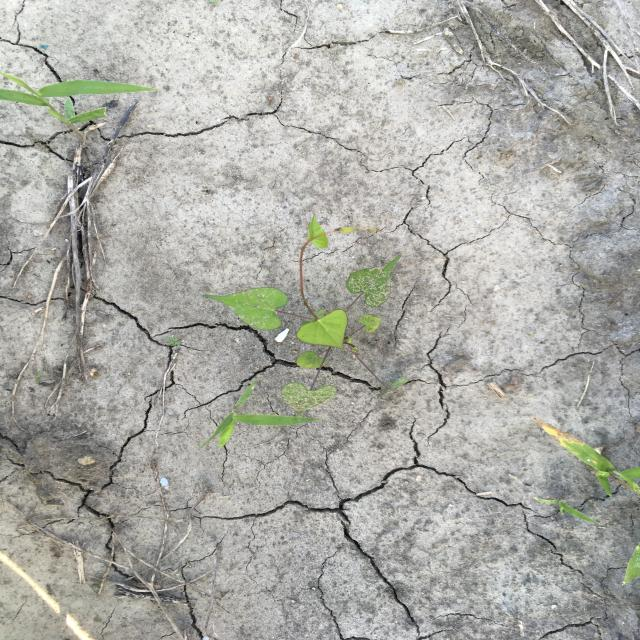MorningGlory: (199, 212, 413, 419)
